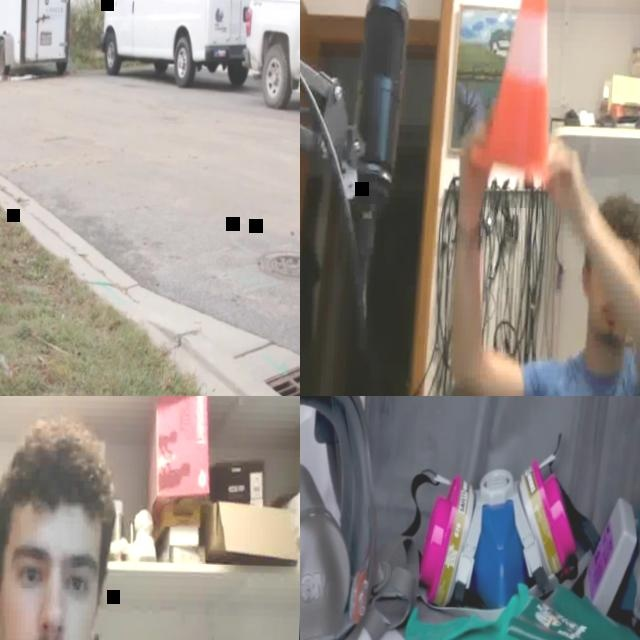Mask: (421, 455, 582, 614), (300, 396, 380, 640), (580, 476, 640, 640)
NO-Hardhat: (3, 409, 113, 539), (593, 191, 640, 256)
NO-Mask: (586, 300, 631, 346)
NO-Safety Vest: (539, 349, 640, 396)
Person: (443, 117, 640, 396), (0, 407, 201, 640)
Safety Cone: (465, 0, 577, 194)
vehicle: (98, 0, 264, 93), (242, 0, 300, 115)
